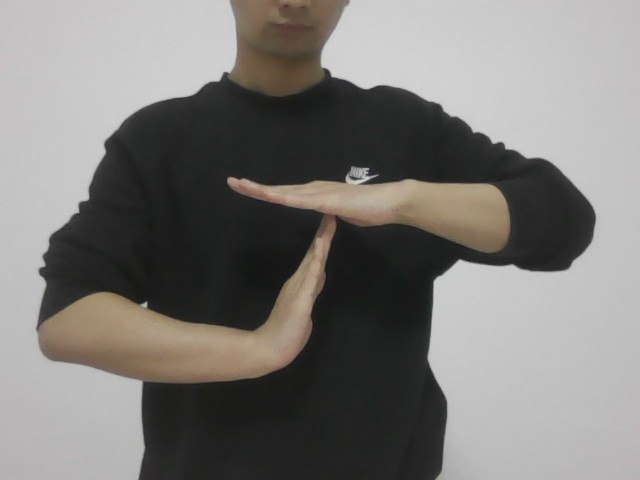stop: (194, 153, 416, 381)
